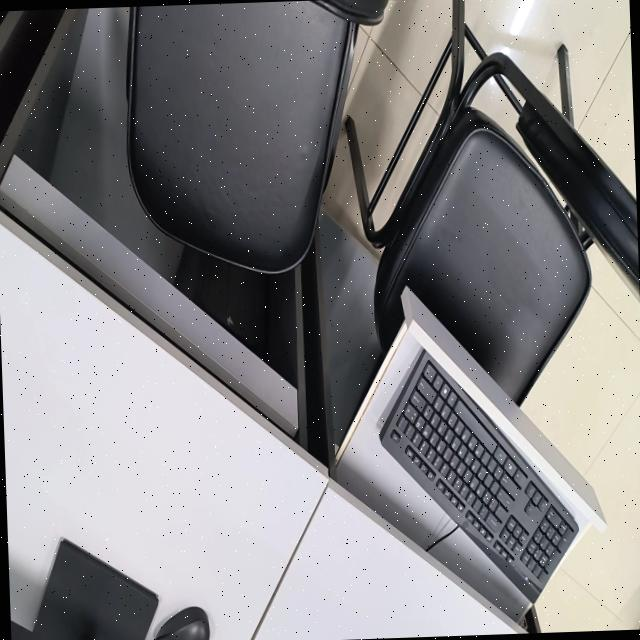Chair: (344, 0, 639, 406), (126, 0, 393, 272)
Cpu: (174, 246, 267, 349)
Keyboard: (379, 348, 578, 598)
Mouse: (154, 608, 209, 640)
